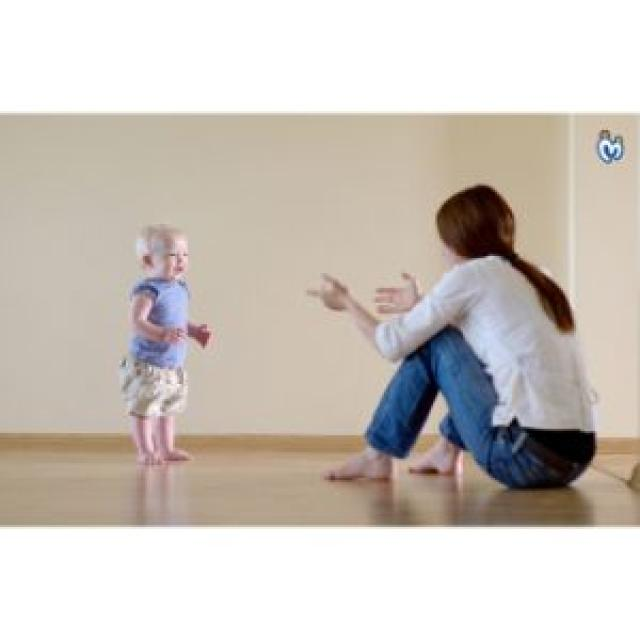adult: (316, 183, 591, 495)
child: (102, 215, 235, 490)
